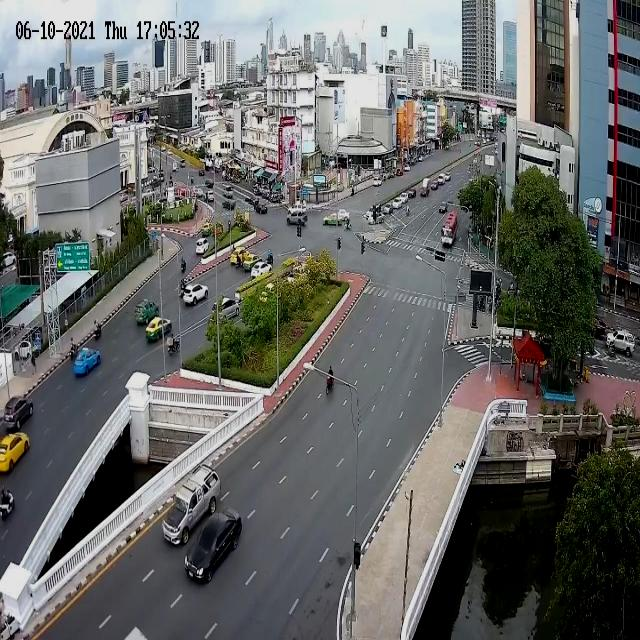Car: (185, 509, 248, 595), (162, 466, 217, 549), (0, 428, 31, 471), (0, 395, 34, 429), (73, 342, 102, 380), (183, 281, 210, 305), (144, 317, 172, 339), (135, 300, 159, 324), (250, 262, 274, 280), (229, 245, 249, 265), (242, 252, 262, 271), (286, 211, 309, 227), (322, 212, 342, 227), (221, 198, 236, 211), (337, 209, 350, 220), (205, 190, 214, 204), (393, 198, 402, 209), (401, 191, 409, 203), (439, 202, 448, 211), (385, 204, 394, 213), (409, 188, 417, 197), (430, 180, 437, 190), (446, 172, 451, 182)
Cycle: (327, 356, 337, 398), (167, 334, 180, 355), (94, 316, 102, 341), (69, 336, 79, 356), (180, 255, 187, 275)
Truck: (440, 209, 459, 250), (419, 178, 431, 199)
Van: (196, 238, 210, 254), (438, 173, 446, 186)
